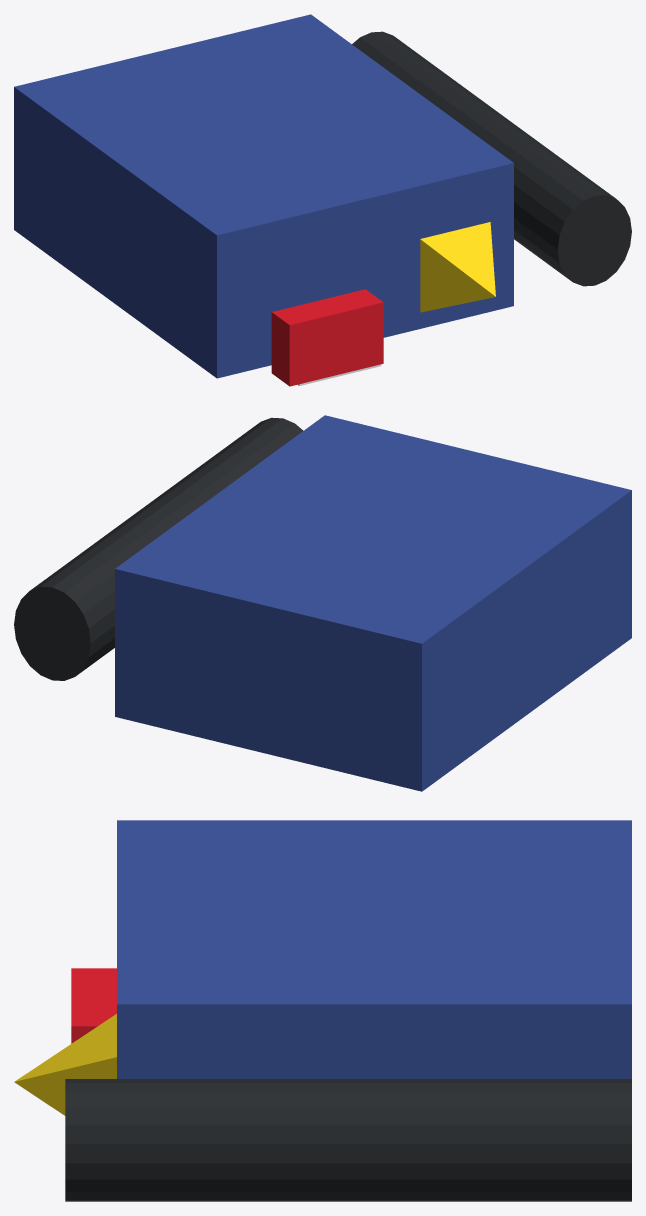
File: tinker.obj
3 renders of one model, top to bottom at view 1: azimuth 30°, elevation 25°; view 2: azimuth 150°, elevation 25°; view 3: azimuth 270°, elevation 25°, orthographic. The views are drawn at different scales.
Parts seen in each view (by area): view 1: group_0_3888547, group_0_2829873, group_0_15277357, group_0_16768282; view 2: group_0_3888547, group_0_2829873; view 3: group_0_3888547, group_0_2829873, group_0_16768282, group_0_15277357.
Boxes of the visible parts, left/top/right/bottom form: group_0_3888547: left=14, top=14, right=513, bottom=378; group_0_2829873: left=352, top=31, right=631, bottom=286; group_0_15277357: left=271, top=289, right=383, bottom=386; group_0_16768282: left=420, top=222, right=495, bottom=312; group_0_3888547: left=115, top=415, right=631, bottom=791; group_0_2829873: left=14, top=417, right=303, bottom=680; group_0_3888547: left=117, top=820, right=631, bottom=1078; group_0_2829873: left=65, top=1079, right=631, bottom=1201; group_0_16768282: left=14, top=1014, right=116, bottom=1115; group_0_15277357: left=71, top=968, right=116, bottom=1043.
Bounding box in the file's own units: 101 × 38 × 108.
